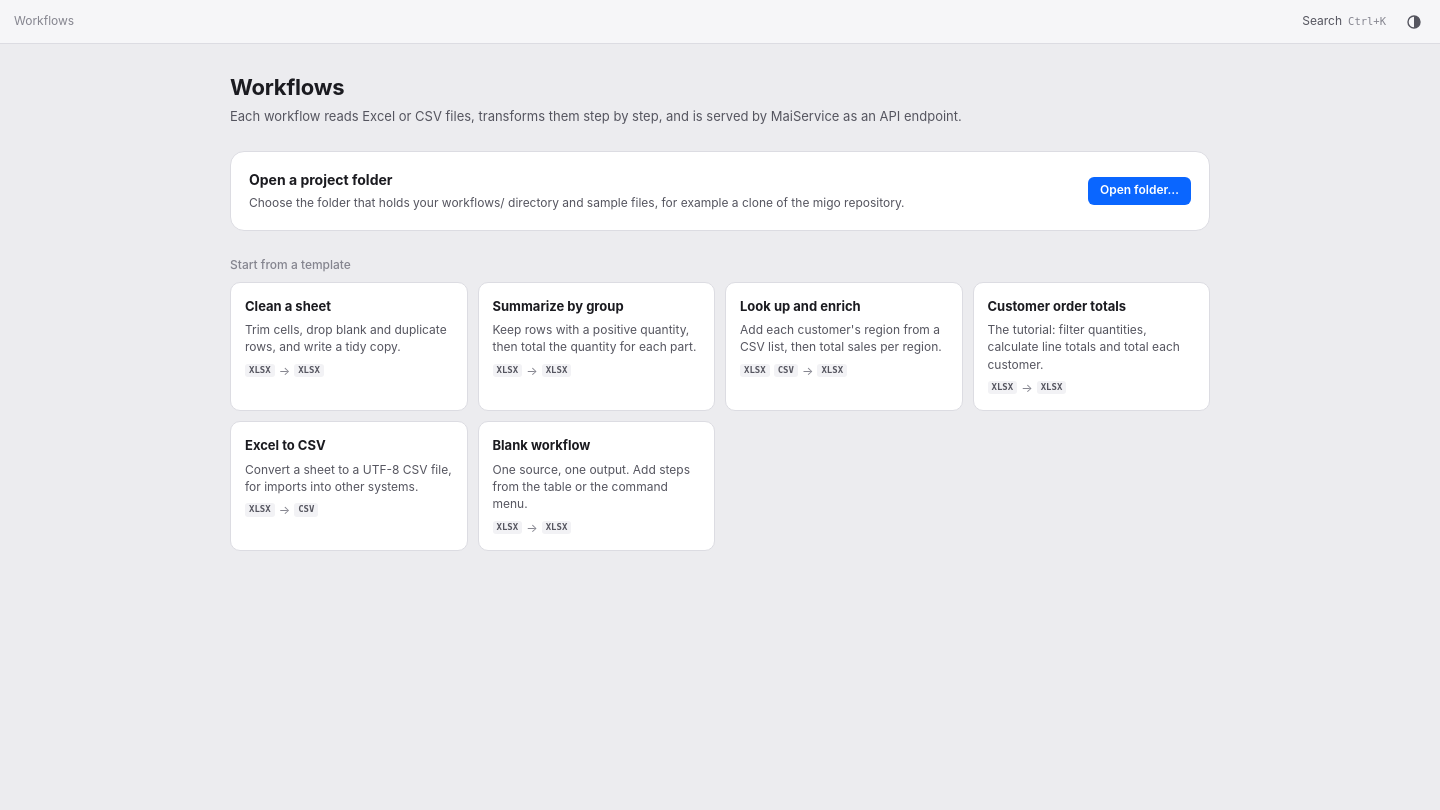
Test: reuses a successful focused trace when revisiting a step
Click the button "Open folder…": [1139, 191] box [1088, 177, 1191, 205]
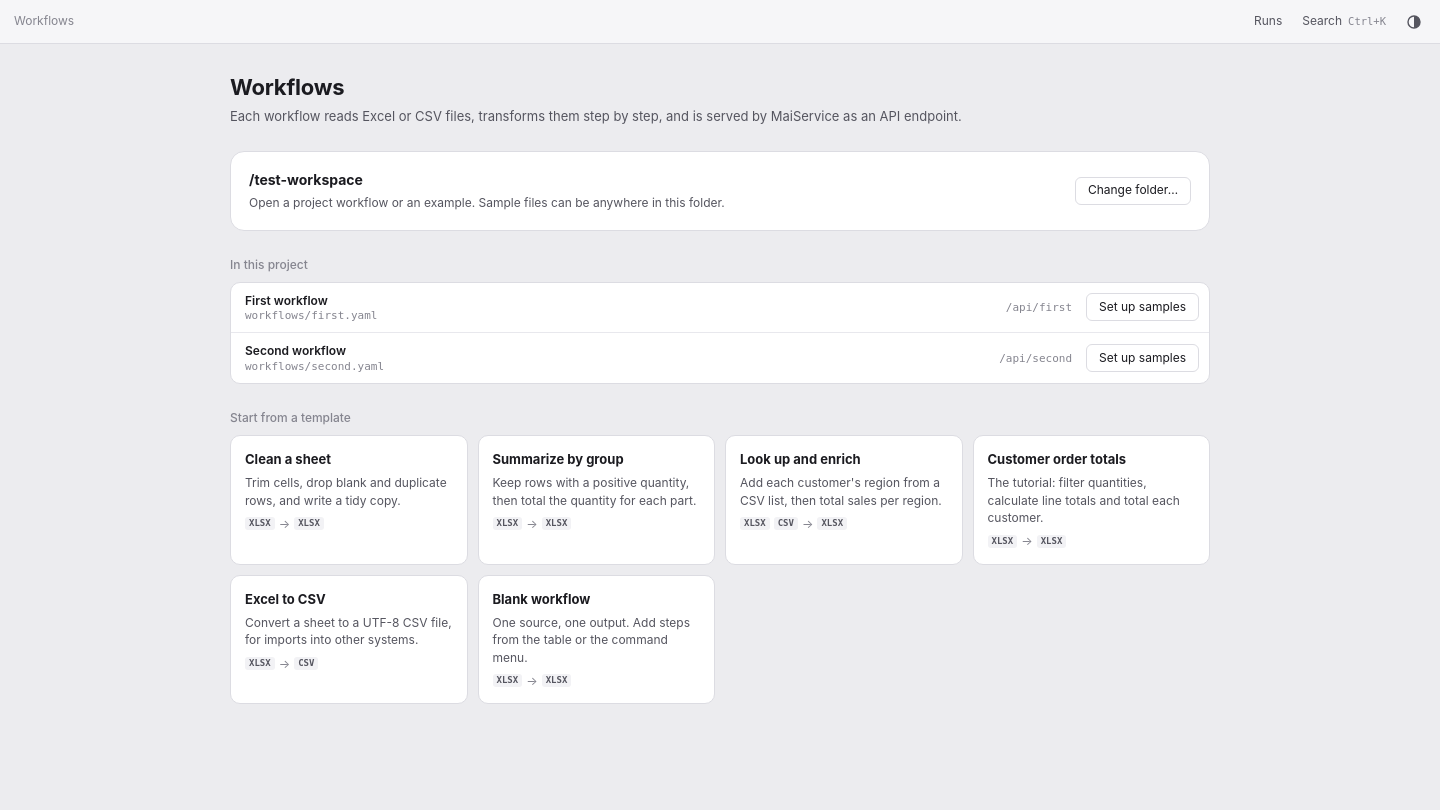
Click the button "First workflow workflows/first.yaml /api/first": [286, 300] box [231, 283, 1086, 332]
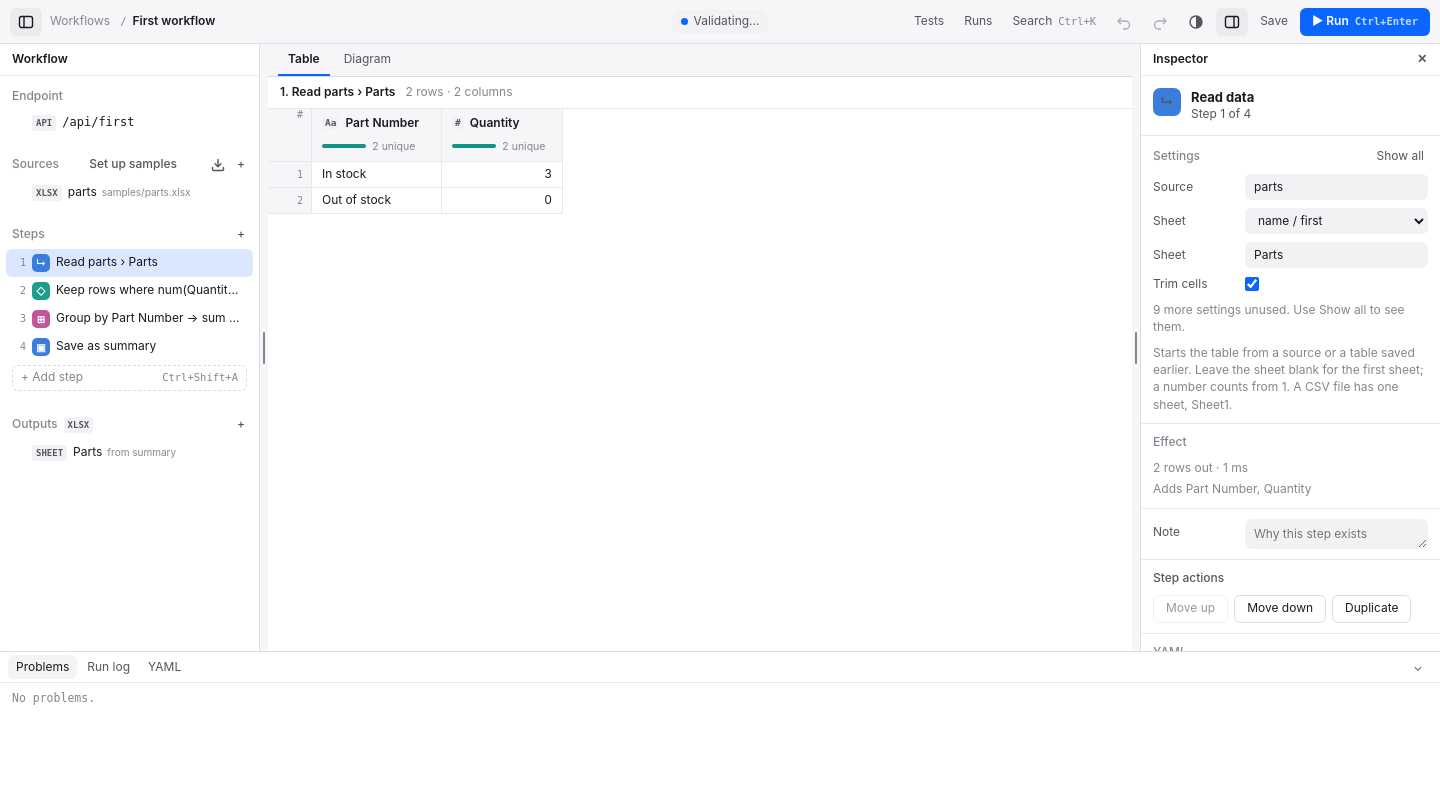
Expected: the text "Out of stock" is shown, [312, 188, 442, 214]
Click the button titled "Keep rows where num(Quantity) > 0": [130, 291] box [6, 277, 253, 305]
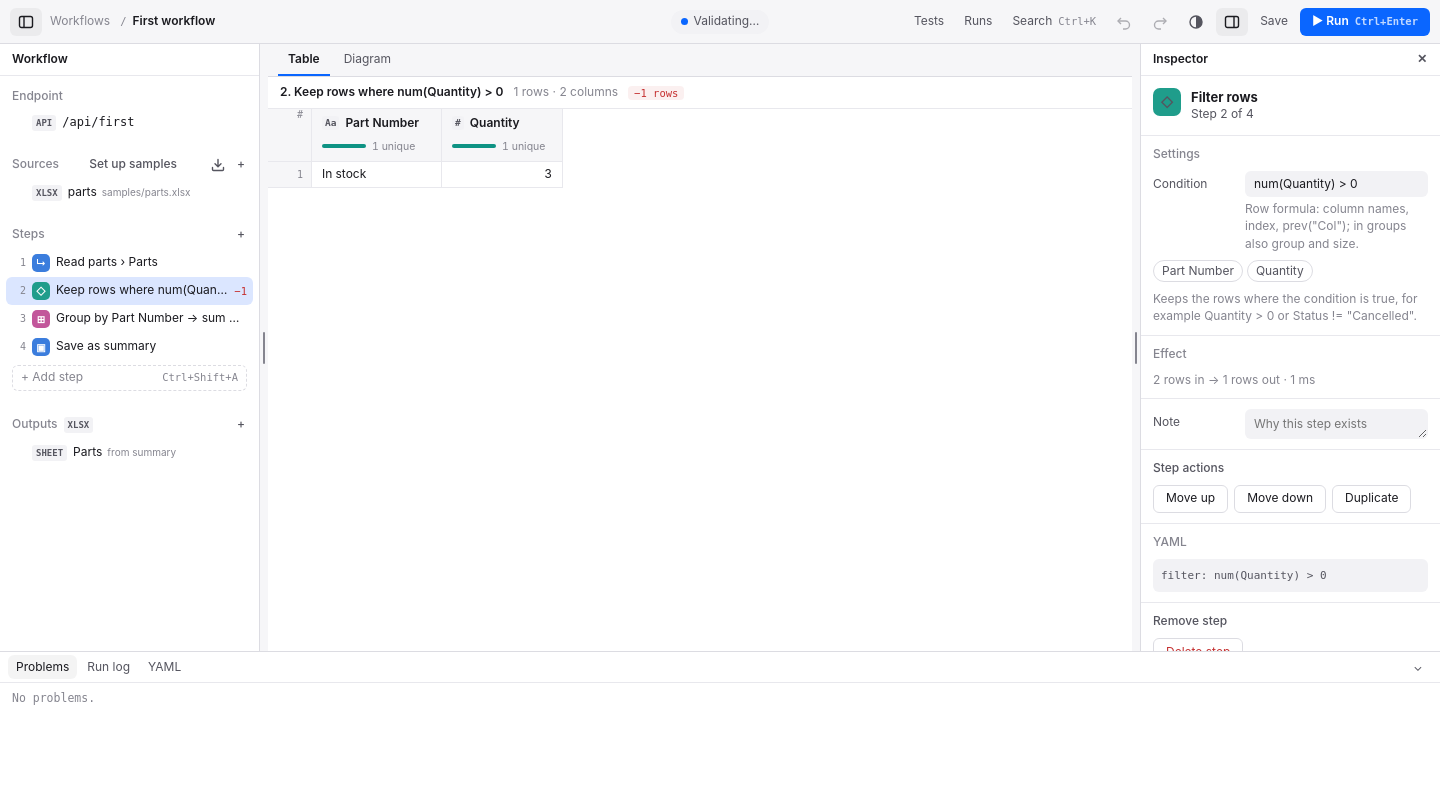
Expected: the text "In stock" is shown, [312, 162, 442, 188]
Expected: the text "Out of stock" is gone
Click the button titled "Read parts": [89, 263] box [20, 254, 158, 272]
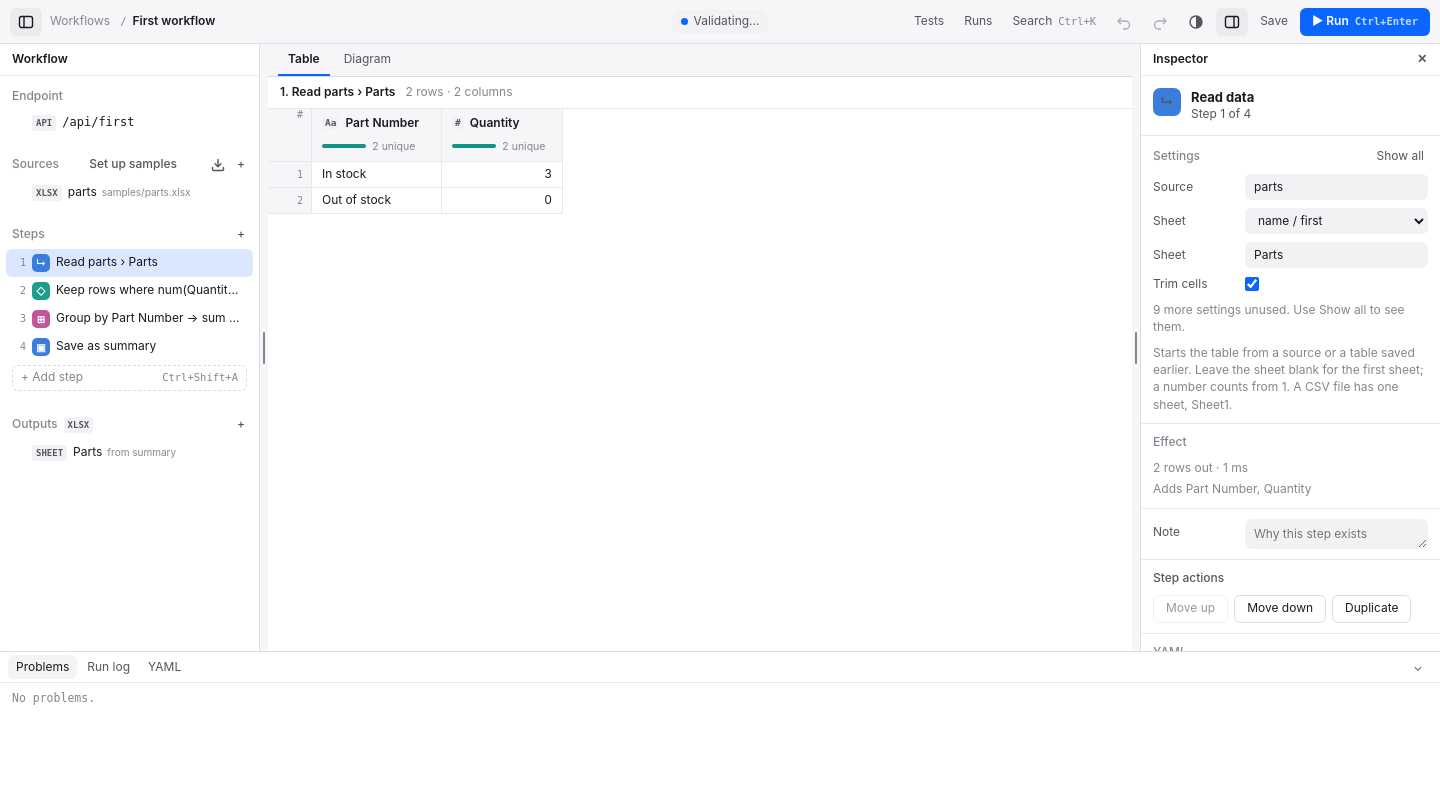
Expected: the text "Out of stock" is shown, [312, 188, 442, 214]
